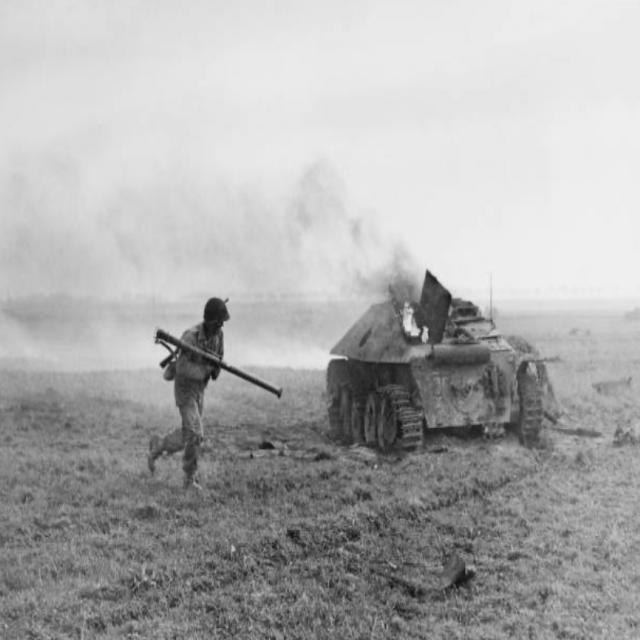bazooka: (134, 303, 301, 419)
